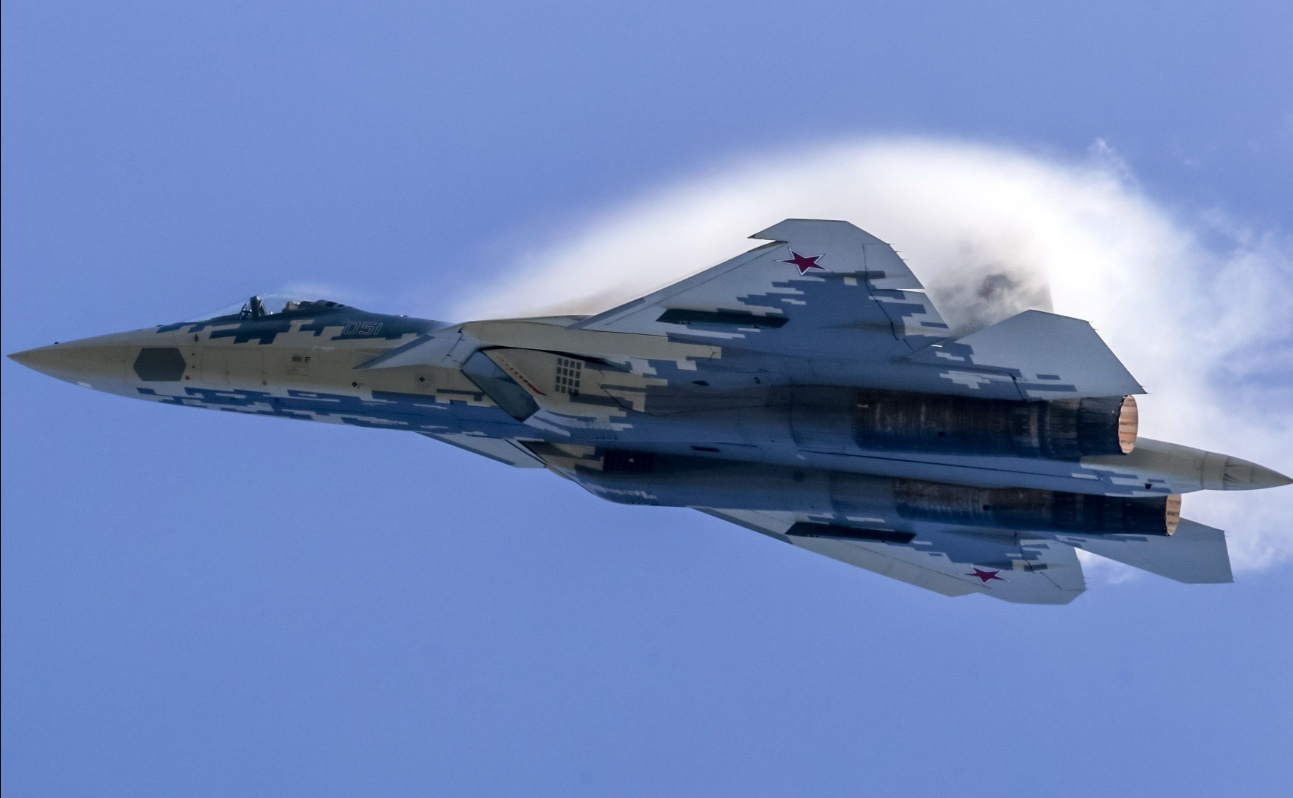airplane: (5, 205, 1293, 608)
